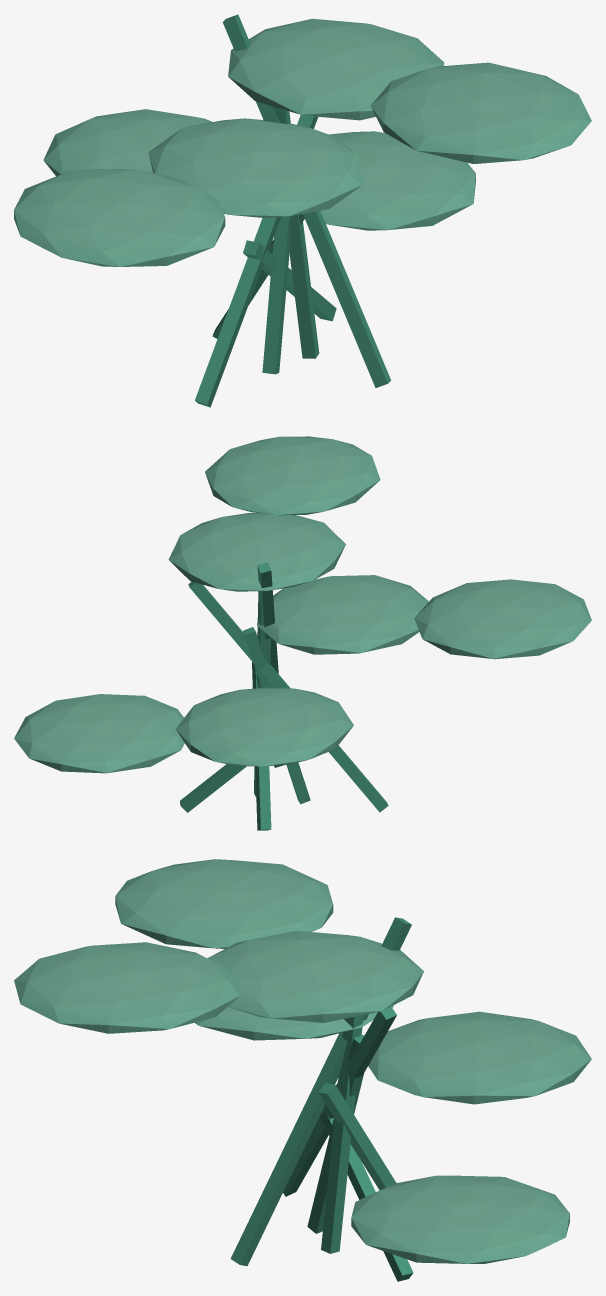
Rendered from capparis-micracantha.glb.
3 views of the same model, one above another, from view 1: azimuth 30°, elevation 25°; view 2: azimuth 150°, elevation 25°; view 3: azimuth 270°, elevation 25° (orthographic). The views are drawn at different scales.
Parts seen in each view (by area): view 1: leaf4, leaf5, leaf1, leaf0, leaf3, leaf2, runner4, runner5, runner0, runner1, runner3; view 2: leaf5, leaf2, leaf4, leaf3, leaf0, leaf1, runner5, runner1, runner4, runner2, runner3, runner0; view 3: leaf4, leaf3, leaf2, leaf5, leaf0, runner4, runner0, leaf1, runner5, runner2, runner3, runner1.
Part boxes in pixels (x1,y1,x2,y2): leaf4: (370, 62, 591, 163); leaf5: (14, 169, 225, 266); leaf1: (148, 118, 363, 218); leaf0: (228, 18, 444, 120); leaf3: (320, 131, 475, 230); leaf2: (43, 109, 212, 176); runner4: (222, 14, 391, 387); runner5: (195, 115, 318, 407); runner0: (271, 106, 319, 358); runner1: (262, 216, 290, 374); runner3: (243, 240, 336, 321); leaf5: (414, 579, 591, 659); leaf2: (175, 687, 353, 766); leaf4: (205, 436, 380, 515); leaf3: (14, 694, 184, 773); leaf0: (168, 513, 345, 591); leaf1: (257, 575, 428, 654); runner5: (188, 581, 388, 812); runner1: (243, 627, 310, 804); runner4: (257, 562, 284, 767); runner2: (252, 662, 271, 830); runner3: (180, 764, 246, 812); runner0: (254, 591, 270, 796); leaf4: (14, 942, 240, 1033); leaf3: (351, 1175, 569, 1263); leaf2: (368, 1011, 591, 1104); leaf5: (115, 859, 333, 948); leaf0: (207, 930, 423, 1022); runner4: (230, 917, 411, 1266); runner0: (321, 1015, 363, 1253); leaf1: (195, 1005, 393, 1040); runner5: (283, 1006, 396, 1196); runner2: (318, 1082, 396, 1190); runner3: (320, 1114, 413, 1281); runner1: (307, 1034, 363, 1233).
Bounding box in the file's own units: 0.5986 × 0.3355 × 0.5527.
